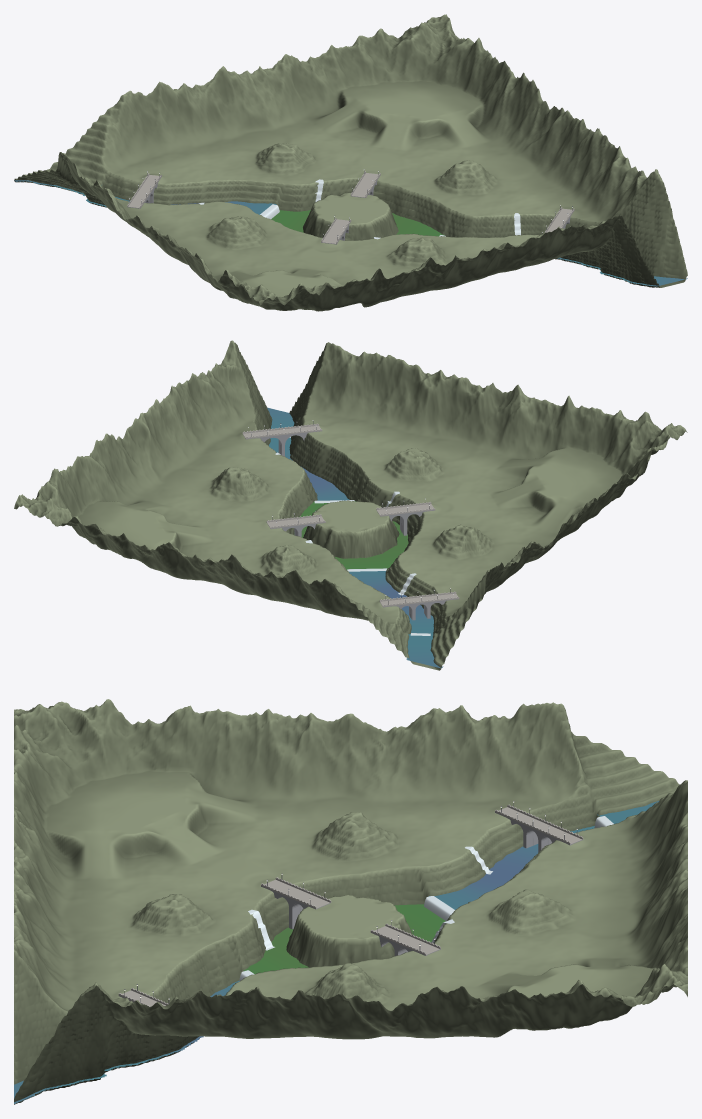
The model's file is terrain.glb.
The picture shows the model from 3 angles, top to bottom: view 1: azimuth 30°, elevation 25°; view 2: azimuth 150°, elevation 25°; view 3: azimuth 270°, elevation 25°; orthographic projection. The views are drawn at different scales.
Visible parts, largest first — view 1: terrain_07_07, terrain_00_02, terrain_00_03, terrain_00_04, terrain_00_05, terrain_00_01, terrain_00_06, terrain_02_07, terrain_00_07, terrain_01_07, terrain_04_07, terrain_05_07 (+56 smaller); view 2: terrain_07_05, terrain_07_04, terrain_07_03, terrain_07_02, terrain_07_06, terrain_05_07, terrain_07_01, terrain_03_07, terrain_04_07, terrain_06_07, terrain_02_07, terrain_03_01 (+59 smaller); view 3: terrain_01_00, terrain_02_00, terrain_04_00, terrain_05_00, terrain_03_00, terrain_06_00, terrain_07_07, terrain_07_00, terrain_03_02, terrain_06_07, terrain_05_04, terrain_06_02 (+55 smaller).
Boxes of the visible parts, box(x1,y1,x2,y2) form: terrain_07_07: box(610, 169, 687, 287); terrain_00_02: box(121, 81, 204, 167); terrain_00_03: box(174, 66, 257, 154); terrain_00_04: box(228, 60, 311, 141); terrain_00_05: box(281, 45, 364, 128); terrain_00_01: box(67, 96, 150, 189); terrain_00_06: box(334, 28, 418, 102); terrain_02_07: box(450, 61, 533, 147); terrain_00_07: box(388, 14, 468, 88); terrain_01_07: box(419, 38, 502, 111); terrain_04_07: box(511, 110, 594, 192); terrain_05_07: box(542, 128, 625, 214); terrain_07_05: box(337, 352, 420, 435); terrain_07_04: box(390, 368, 473, 449); terrain_07_03: box(444, 383, 527, 462); terrain_07_02: box(497, 395, 580, 463); terrain_07_06: box(291, 342, 367, 437); terrain_05_07: box(168, 373, 245, 455); terrain_07_01: box(551, 405, 633, 474); terrain_03_07: box(107, 418, 189, 500); terrain_04_07: box(138, 395, 221, 477); terrain_06_07: box(199, 343, 270, 445); terrain_02_07: box(76, 433, 159, 509); terrain_03_01: box(427, 525, 510, 578); terrain_01_00: box(519, 702, 603, 831); terrain_02_00: box(435, 705, 519, 811); terrain_04_00: box(266, 709, 350, 812); terrain_05_00: box(182, 705, 266, 811); terrain_03_00: box(351, 708, 435, 811); terrain_06_00: box(98, 699, 182, 793); terrain_07_07: box(14, 982, 98, 1104); terrain_07_00: box(14, 701, 98, 793); terrain_03_02: box(351, 823, 435, 905); terrain_06_07: box(98, 984, 182, 1079); terrain_05_04: box(182, 899, 265, 990); terrain_06_02: box(98, 829, 182, 883).
Size of the model in its own units: 400 by 82.84 by 400.
